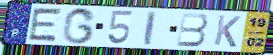5: (106, 10, 134, 45)
B: (176, 12, 210, 48)
E: (25, 7, 65, 43)
G: (60, 7, 97, 45)
I: (143, 10, 158, 47)
K: (212, 14, 243, 49)
